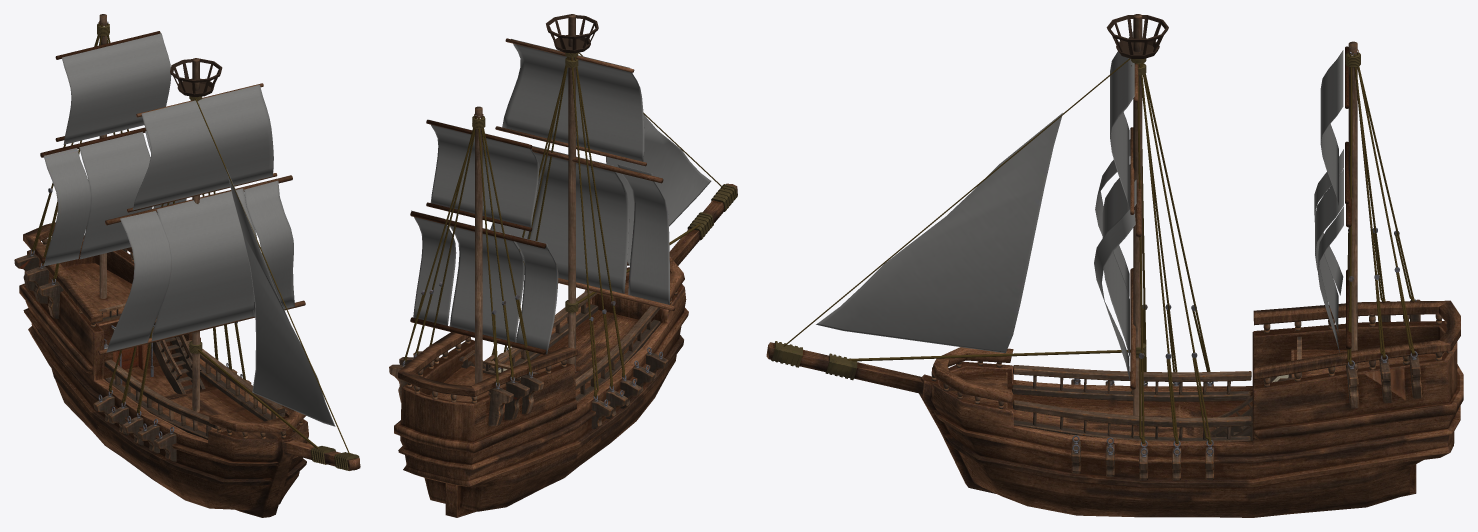
File: galleon-heritage.glb
3 views of the same model, side by side, from view 1: azimuth 30°, elevation 25°; view 2: azimuth 150°, elevation 25°; view 3: azimuth 270°, elevation 25° (orthographic). The views are drawn at different scales.
Visible parts, largest first — view 1: node_Cube.021_MeshPart0_-1010_4, node_Cube.021_MeshPart1_-1012_3; view 2: node_Cube.021_MeshPart0_-1010_4, node_Cube.021_MeshPart1_-1012_3; view 3: node_Cube.021_MeshPart0_-1010_4, node_Cube.021_MeshPart1_-1012_3.
Boxes of the visible parts, x1,y1,x2,y2 form: node_Cube.021_MeshPart0_-1010_4: (14,14,360,517); node_Cube.021_MeshPart1_-1012_3: (30,21,360,470); node_Cube.021_MeshPart0_-1010_4: (389,14,737,517); node_Cube.021_MeshPart1_-1012_3: (401,52,737,402); node_Cube.021_MeshPart0_-1010_4: (766,14,1463,517); node_Cube.021_MeshPart1_-1012_3: (771,49,1417,441).
Bounding box in the file's own units: 11.82 × 23.16 × 29.92.
1 material, 1 textured.
